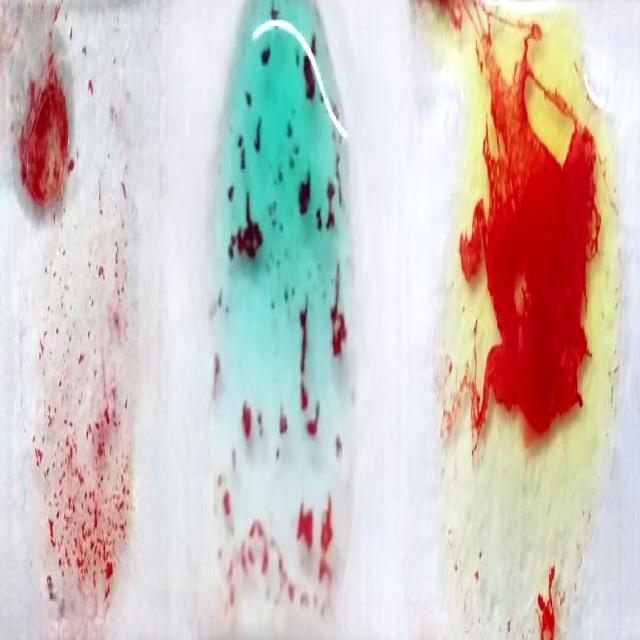A: (215, 13, 352, 626)
B: (461, 28, 609, 638)
D: (21, 29, 139, 624)
